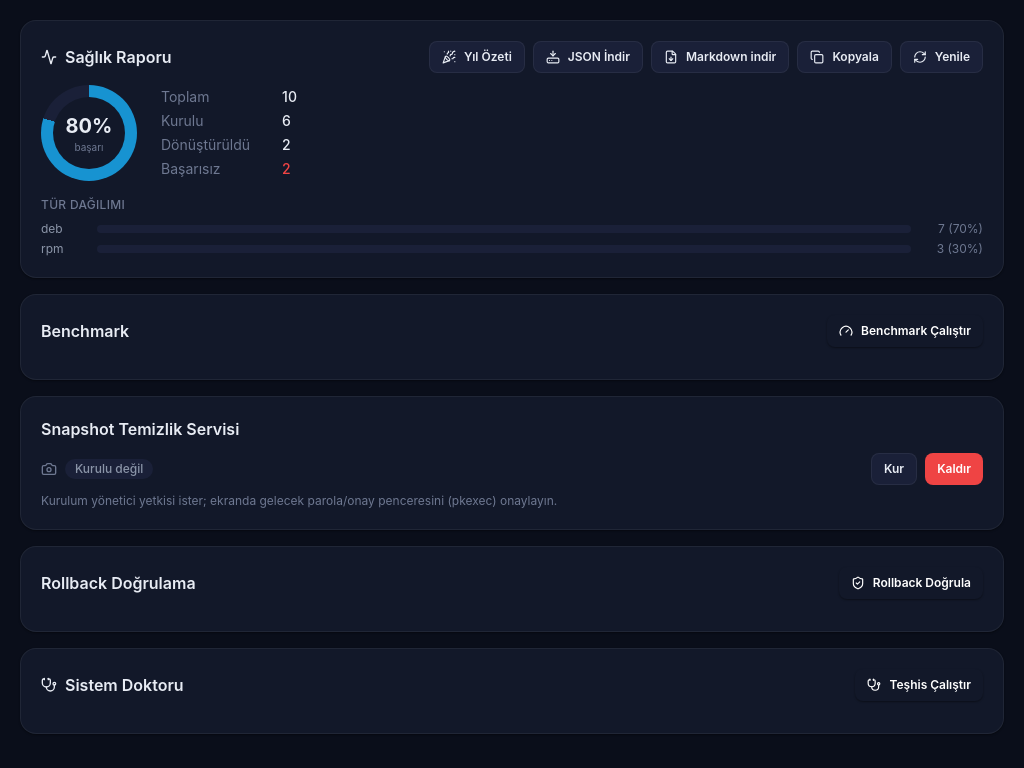
Scenario: Reports page › toasts an error when copying the report fails (Faz 10)
Expected: the text "80%" is shown, [66,112,112,140]
Click the button "Kopyala": (845, 57) [797,41,892,73]
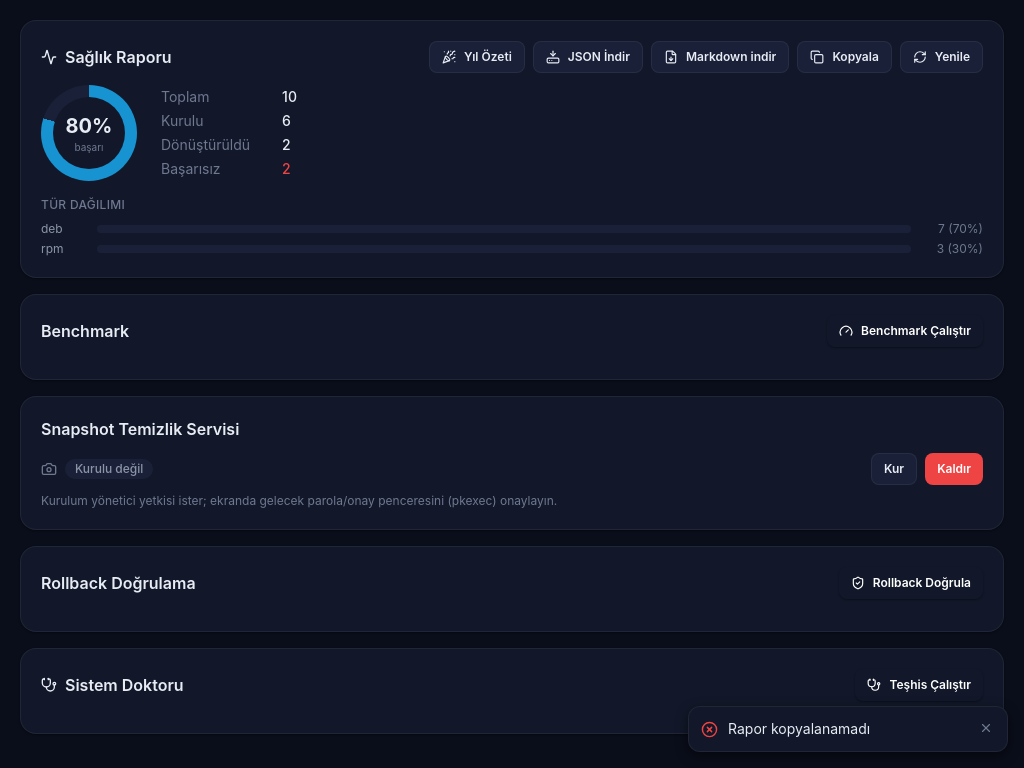
Expected: the text "Rapor kopyalanamadı" is shown, [728,720,870,737]
